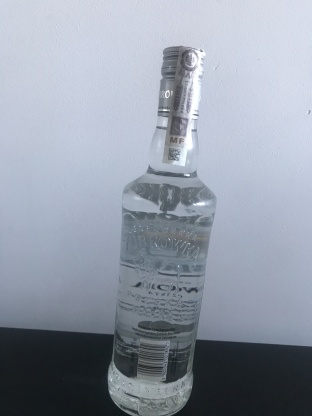nakretka: (155, 43, 207, 123)
